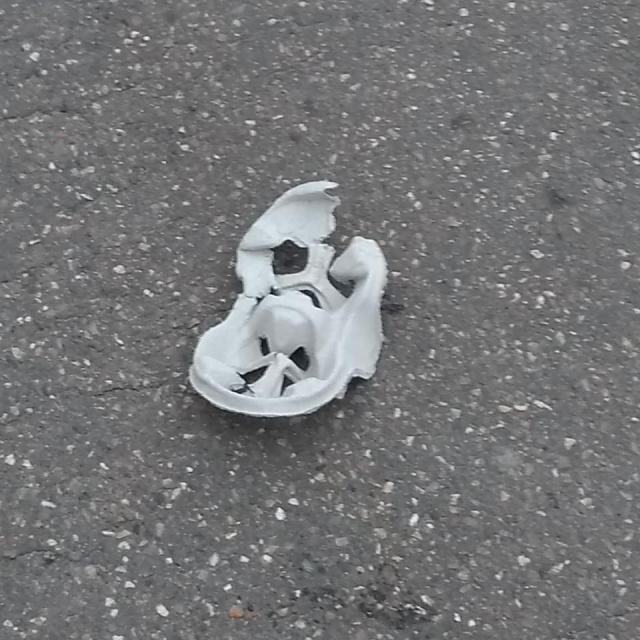Paper: (182, 173, 392, 419)
